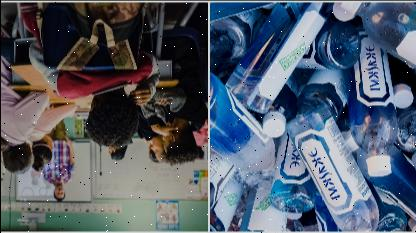Plastic Bottle: (280, 106, 381, 232), (225, 0, 327, 113), (341, 25, 395, 178), (208, 75, 282, 175), (338, 0, 416, 73)
